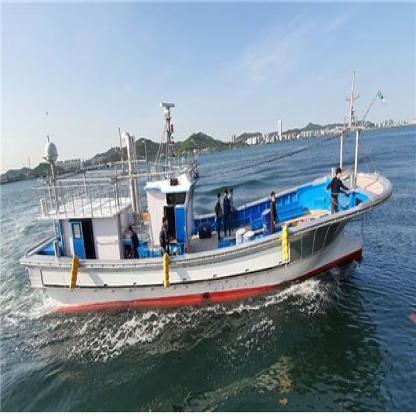fish-b: (14, 93, 396, 315)
